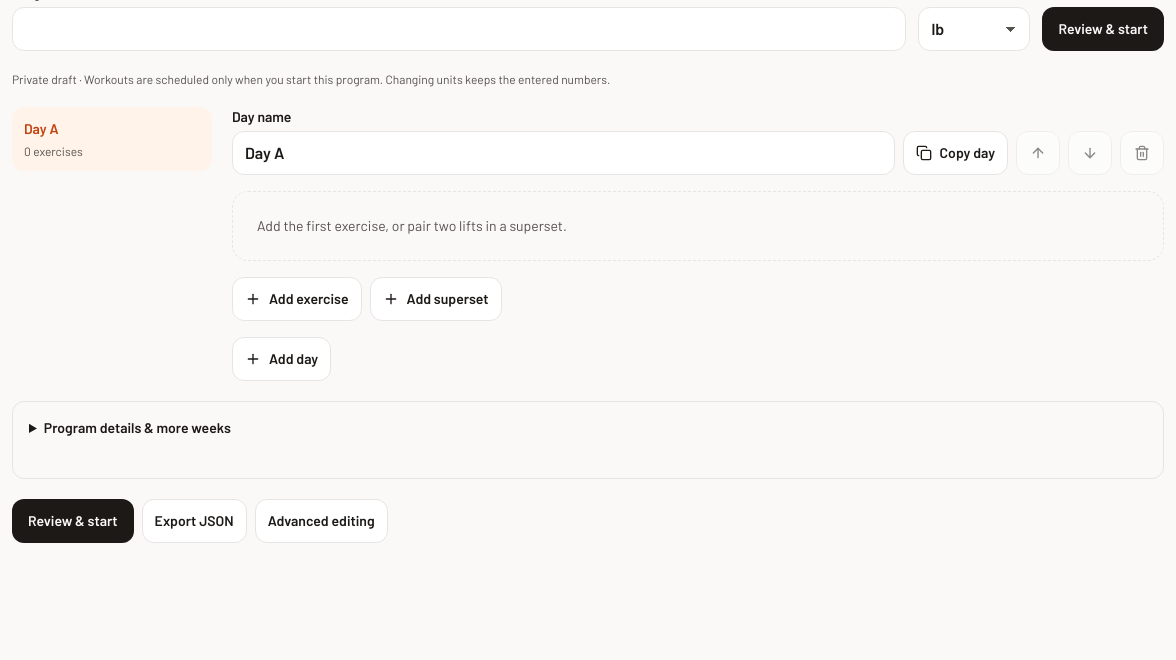
Test case: day-based program builder › builds a day and paired exercises without structure tabs
In the field labelled "Program name": (459, 29) [12, 7, 906, 51], type "Three day strength"
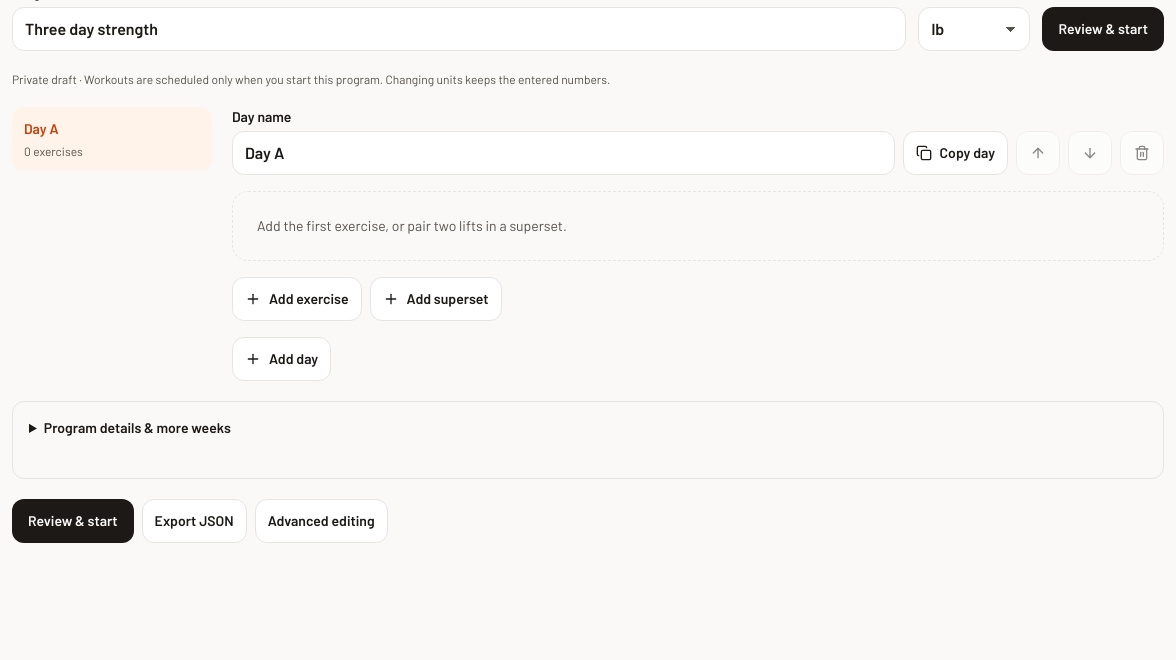
Click the button "Add superset": (436, 299) [370, 277, 502, 321]
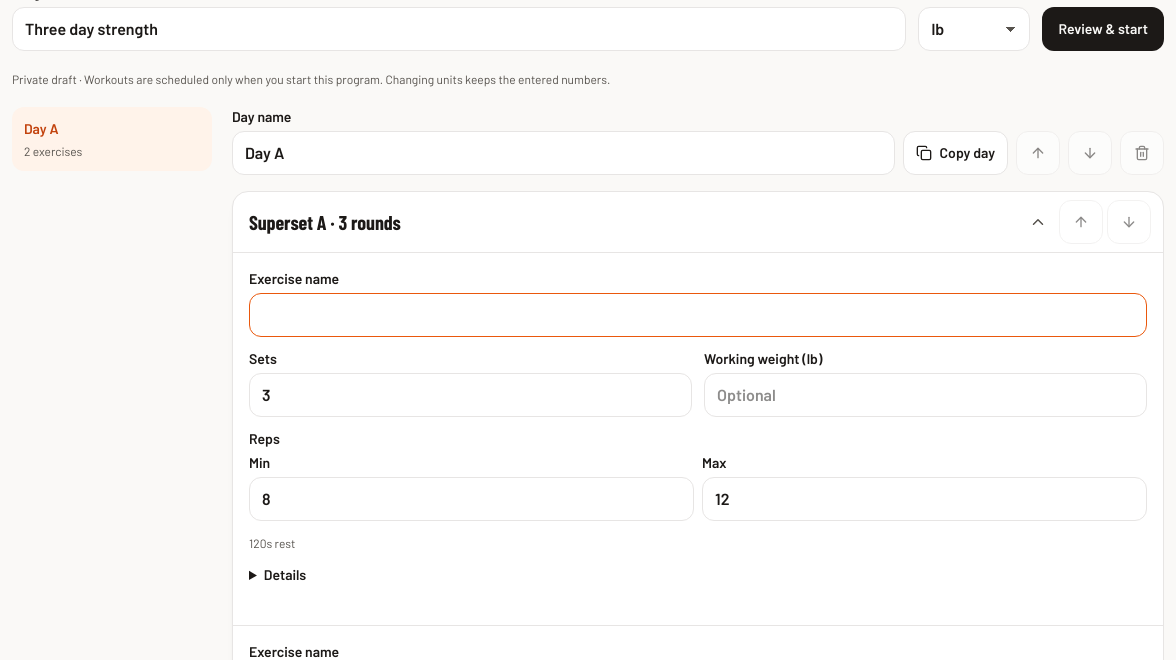
Result: the text "Superset A · 3 rounds" is shown at [249, 210, 401, 234]
In the 1st field labelled "Exercise name": (698, 315) [249, 293, 1147, 337], type "Squat"
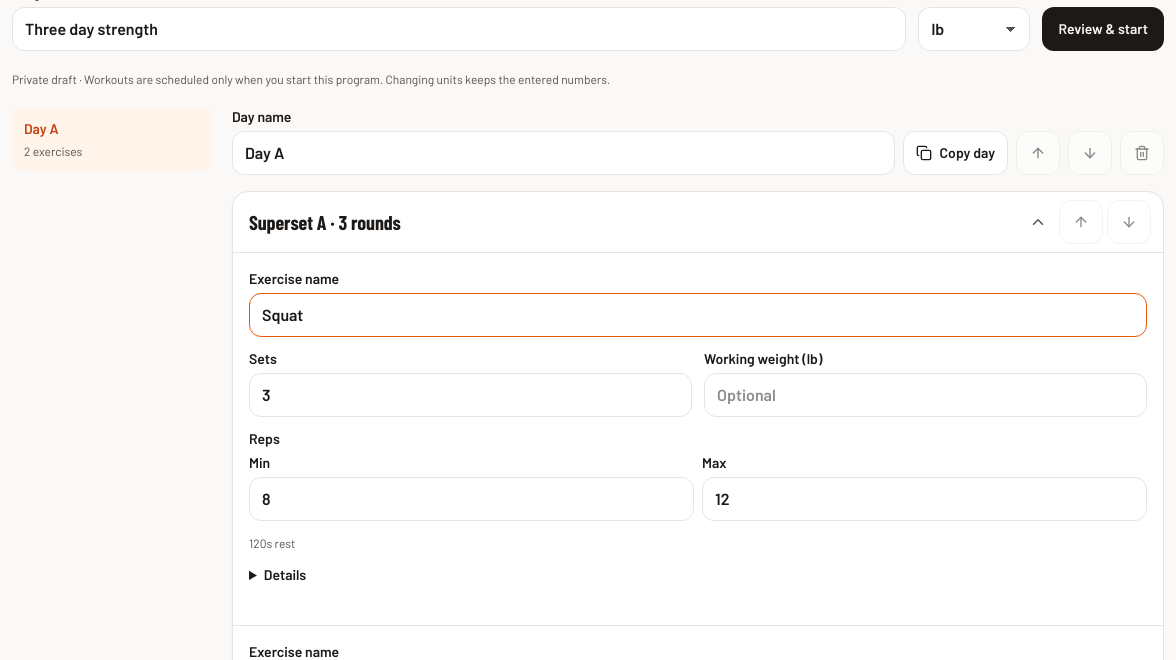
Replace the text in the number field labelled "Sets" with "5": (470, 395) [249, 373, 692, 417]
(page scrolled)
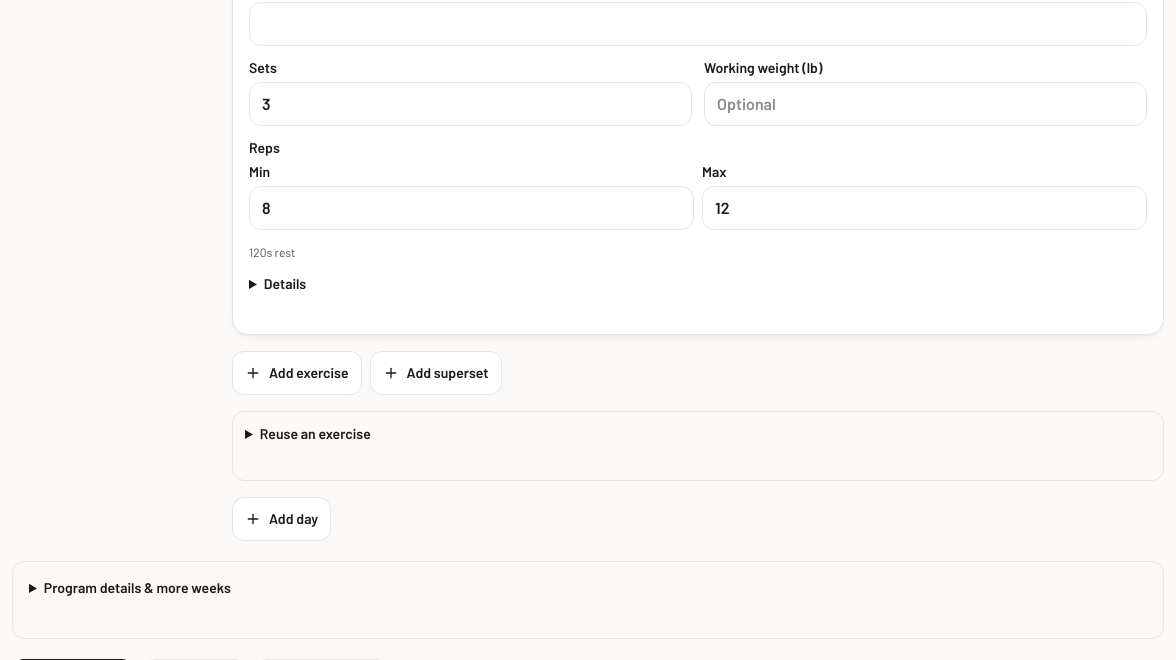
Result: the number field labelled "Sets" holds "3" at [249, 82, 692, 126]
Click the button "Add day": (282, 519) [232, 497, 331, 541]
(page scrolled)
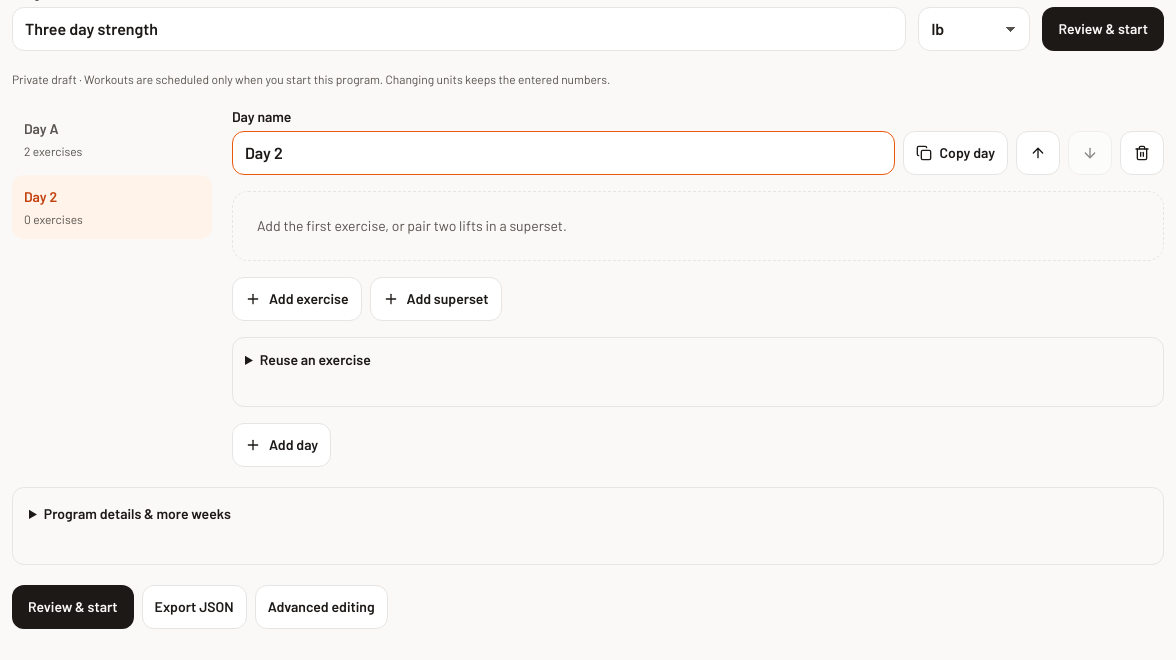
Result: the field labelled "Day name" holds "Day 2" at [232, 131, 895, 175]
